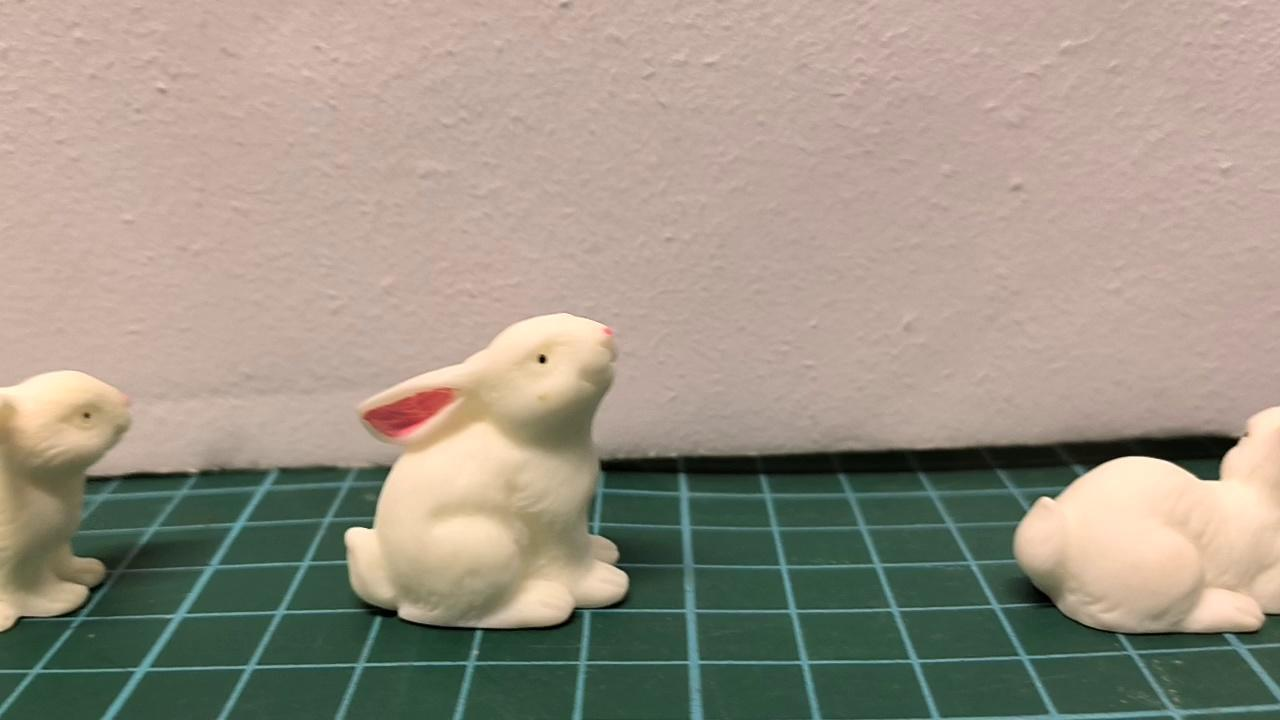pet: (345, 312, 633, 630), (1010, 404, 1280, 636), (0, 372, 133, 636)
